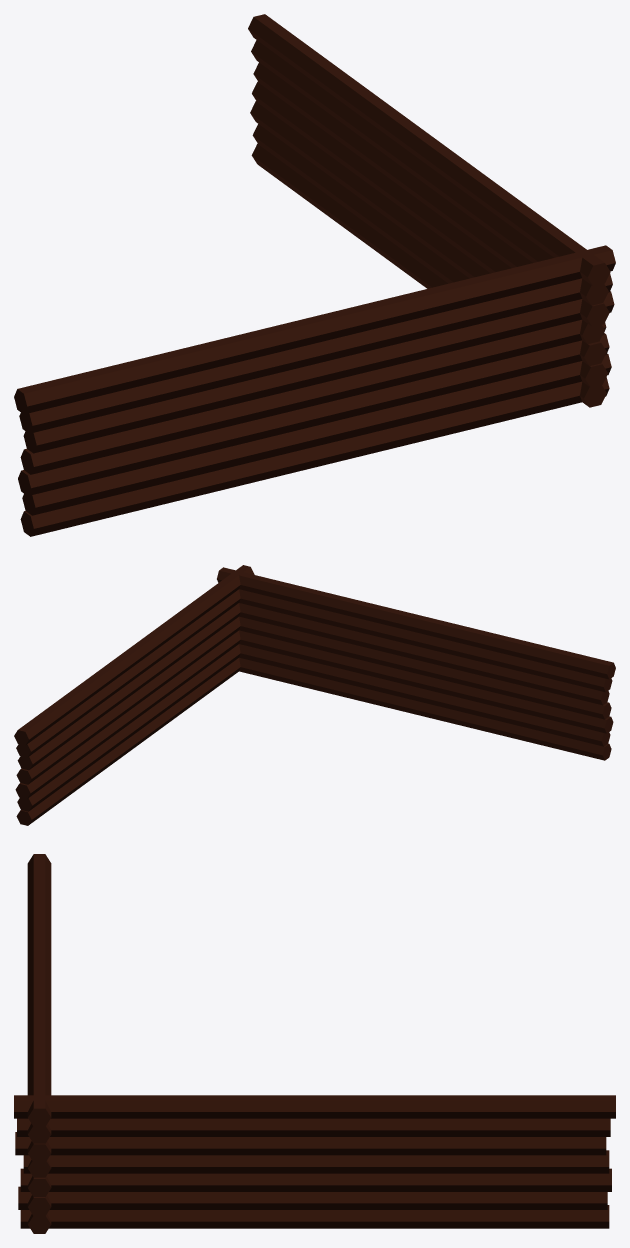
The model's file is logwallcorner_01.FBX.
3 renders of one model, top to bottom at view 1: azimuth 30°, elevation 25°; view 2: azimuth 150°, elevation 25°; view 3: azimuth 270°, elevation 25°, orthographic. The views are drawn at different scales.
Visible parts, largest first — view 1: Cylinder007, Cylinder001, Cylinder003, Cylinder005, Cylinder004, Cylinder006, Cylinder002, Cylinder013, Cylinder011, Cylinder010, Cylinder012, Cylinder009 (+2 smaller); view 2: Cylinder007, Cylinder001, Cylinder006, Cylinder003, Cylinder005, Cylinder002, Cylinder004, Cylinder013, Cylinder014, Cylinder012, Cylinder009, Cylinder011 (+2 smaller); view 3: Cylinder013, Cylinder009, Cylinder011, Cylinder010, Cylinder014, Cylinder012, Cylinder008, Cylinder007.
Boxes of the visible parts, bbox=[...] form: Cylinder007: bbox=[14, 245, 615, 414]; Cylinder001: bbox=[20, 377, 609, 536]; Cylinder003: bbox=[18, 333, 609, 495]; Cylinder005: bbox=[19, 273, 612, 433]; Cylinder004: bbox=[23, 291, 614, 453]; Cylinder006: bbox=[20, 319, 606, 474]; Cylinder002: bbox=[22, 353, 611, 515]; Cylinder013: bbox=[248, 14, 610, 286]; Cylinder011: bbox=[251, 40, 608, 305]; Cylinder010: bbox=[253, 62, 609, 326]; Cylinder012: bbox=[252, 81, 604, 343]; Cylinder009: bbox=[250, 101, 606, 365]; Cylinder007: bbox=[217, 567, 615, 679]; Cylinder001: bbox=[239, 657, 611, 760]; Cylinder006: bbox=[239, 616, 611, 719]; Cylinder003: bbox=[239, 630, 613, 733]; Cylinder005: bbox=[239, 589, 612, 692]; Cylinder002: bbox=[239, 644, 610, 746]; Cylinder004: bbox=[239, 603, 609, 705]; Cylinder013: bbox=[14, 565, 254, 745]; Cylinder014: bbox=[16, 658, 240, 825]; Cylinder012: bbox=[16, 617, 240, 784]; Cylinder009: bbox=[15, 630, 240, 799]; Cylinder011: bbox=[16, 589, 240, 757]; Cylinder013: bbox=[14, 1095, 615, 1118]; Cylinder009: bbox=[20, 1168, 611, 1191]; Cylinder011: bbox=[17, 1118, 610, 1136]; Cylinder010: bbox=[15, 1132, 606, 1155]; Cylinder014: bbox=[20, 1205, 609, 1228]; Cylinder012: bbox=[23, 1150, 609, 1173]; Cylinder008: bbox=[18, 1186, 607, 1209]; Cylinder007: bbox=[27, 854, 51, 1126].
Size of the model in its own units: 257 by 60.3 by 257.
